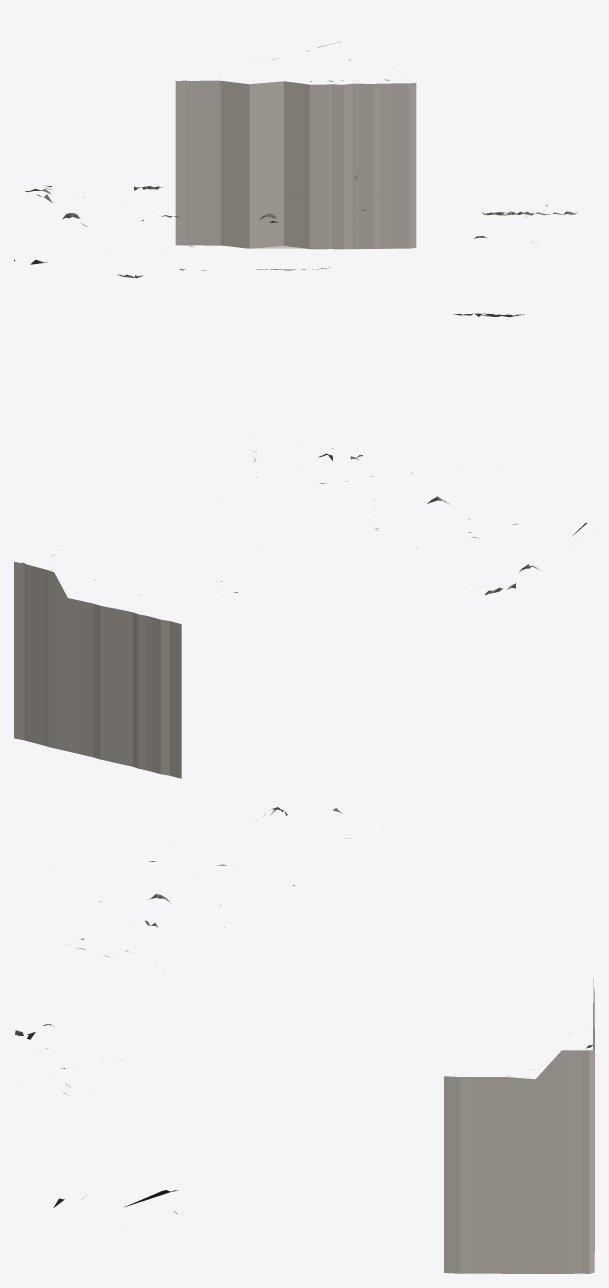
3 renders of one model, top to bottom at view 1: azimuth 30°, elevation 25°; view 2: azimuth 150°, elevation 25°; view 3: azimuth 270°, elevation 25°, orthographic. The views are drawn at different scales.
Visible parts, largest first — view 1: murs, toit; view 2: murs; view 3: murs.
Boxes of the visible parts, bbox=[...] form: murs: bbox=[175, 80, 416, 249]; toit: bbox=[14, 41, 577, 319]; murs: bbox=[14, 562, 181, 778]; murs: bbox=[444, 978, 594, 1273].
Size of the model in its own units: 30 by 14.26 by 30.
2 materials, 1 textured.
